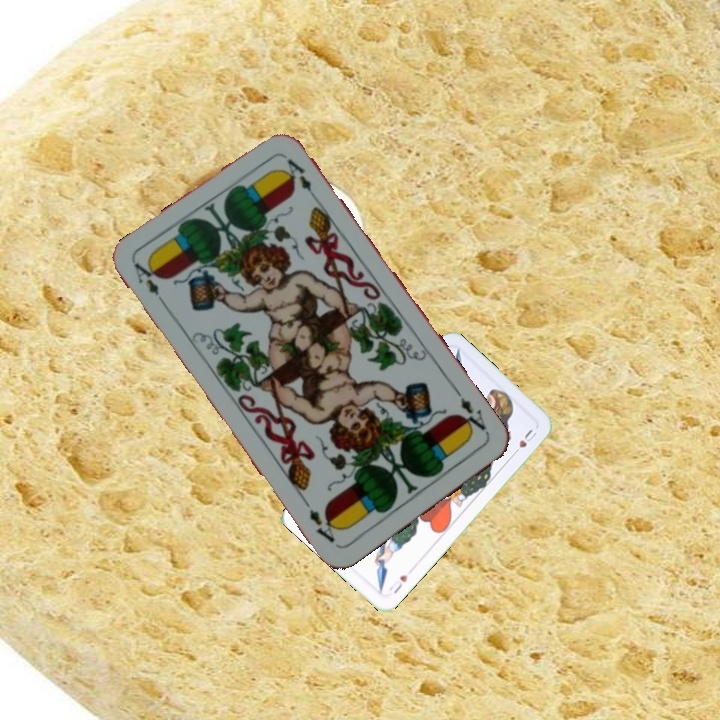EA: (130, 259, 170, 311), (452, 386, 488, 438)
HU: (385, 570, 410, 597)
